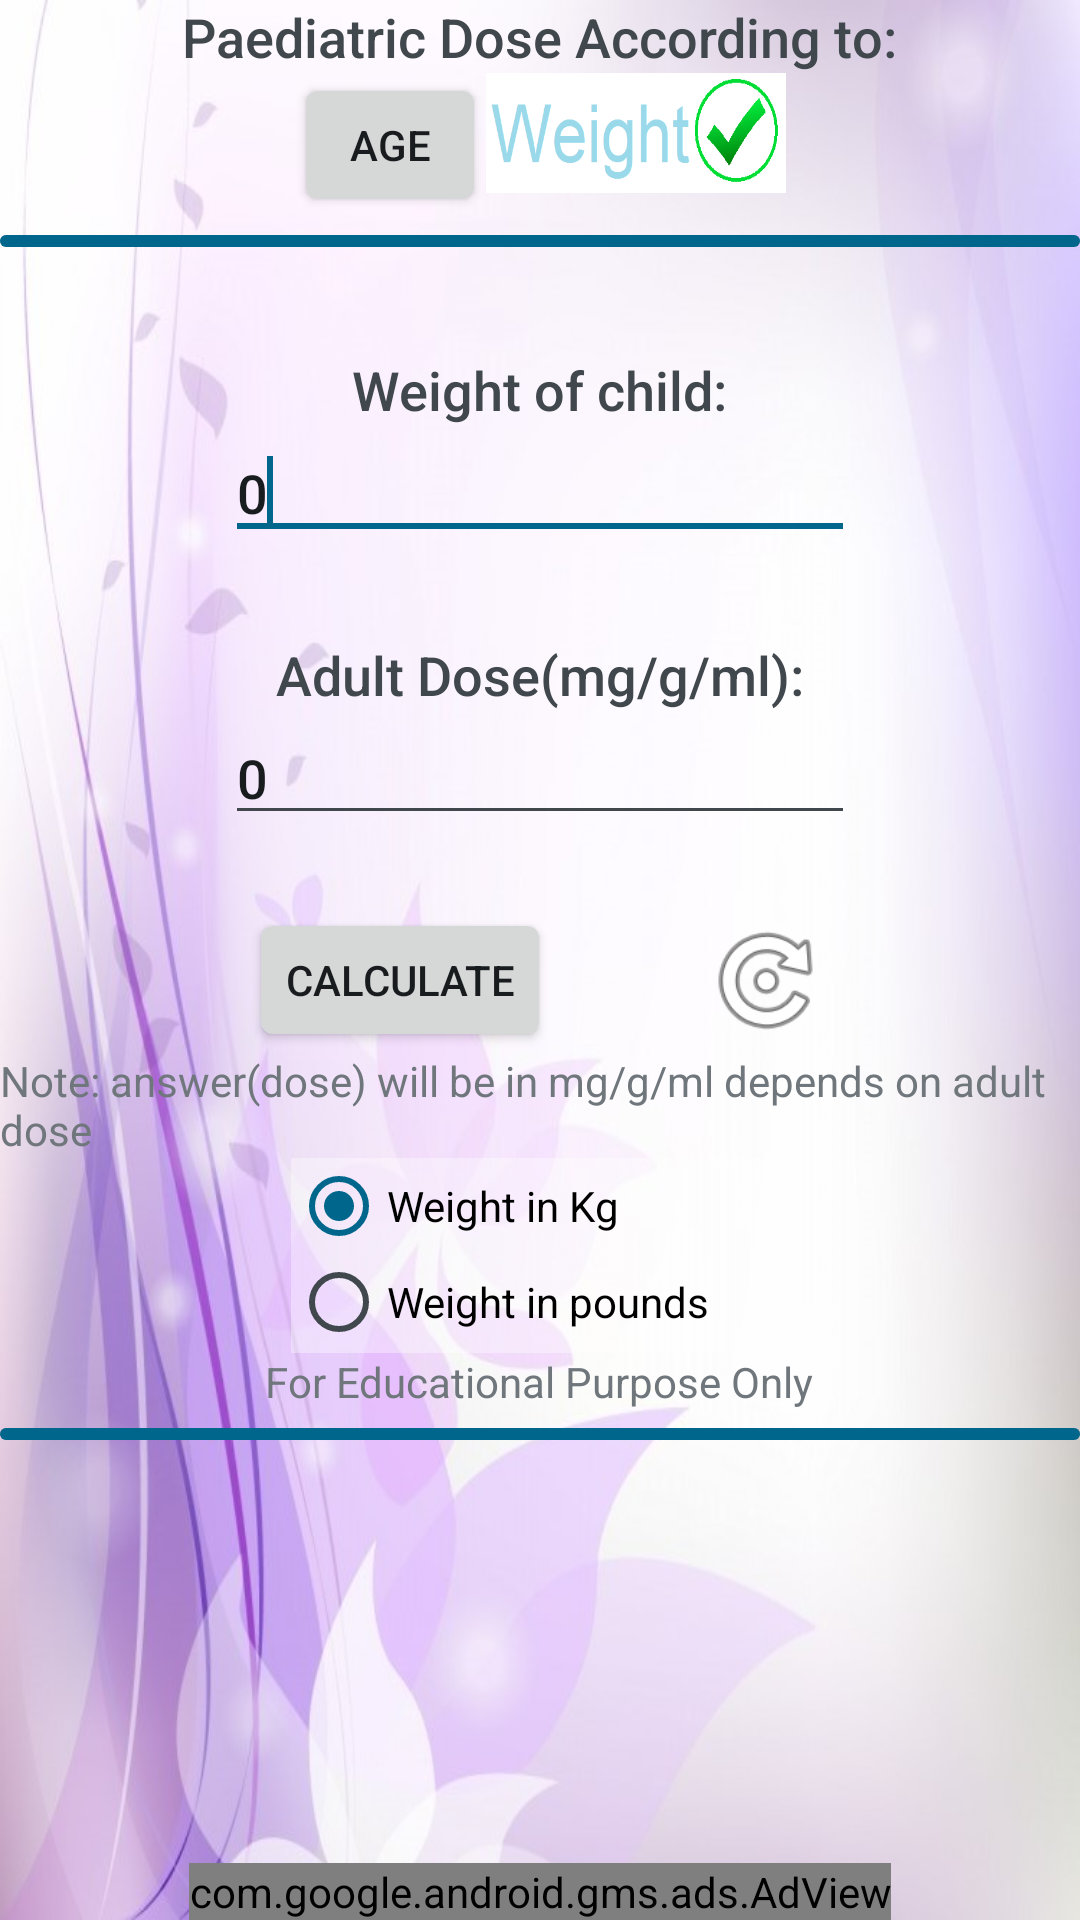

Screen size 1080*1920. Icon name, then its center in pixels as (x,y):
rotate: (765,980)
